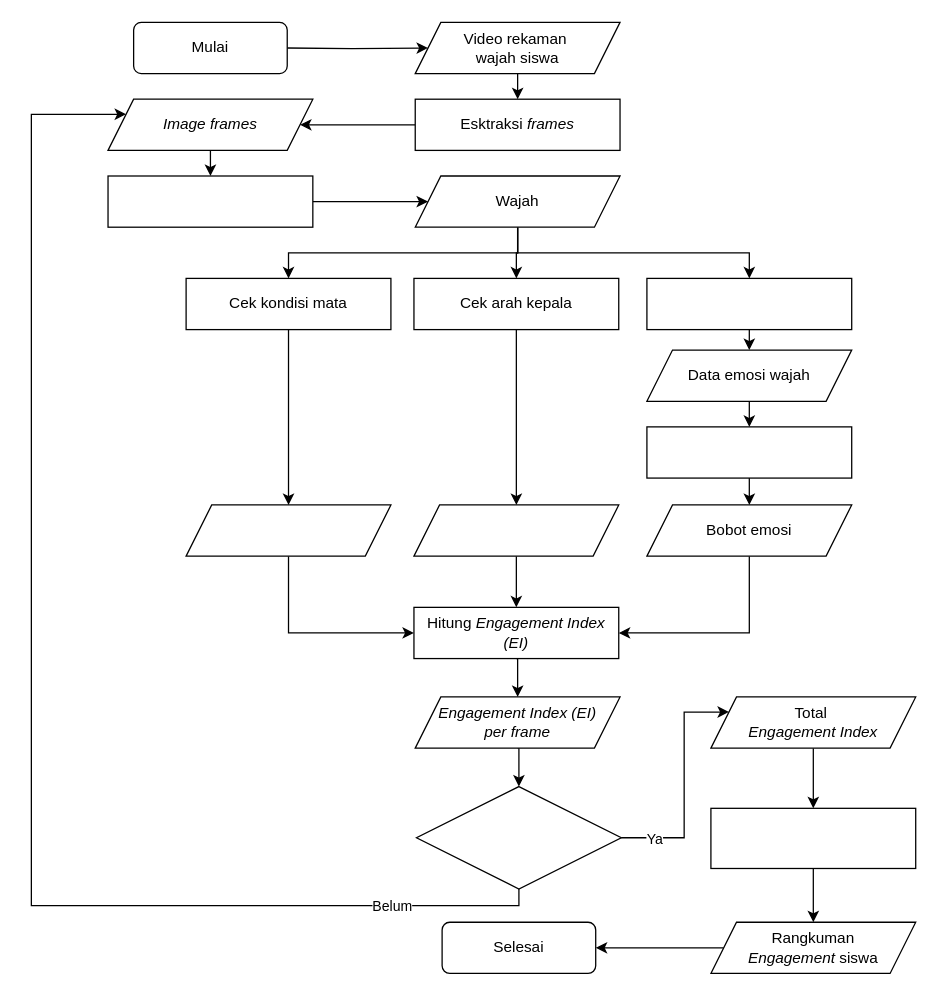
This 938x996 diagram has some shape labels left out. The centre of each missing label's shape, as x and y in pixels:
"Apakah sudah semua frame dieksekusi ?" goes at (518,837).
"Bobot arah kepala" goes at (516,530).
"Bobot mata" goes at (288,530).
"Deteksi wajah" goes at (210,201).
"Facial Expressions Recognition" goes at (749,303).
"Interpretasi dengan LLM" goes at (813,837).
"Pembobotan emosi wajah" goes at (749,452).
